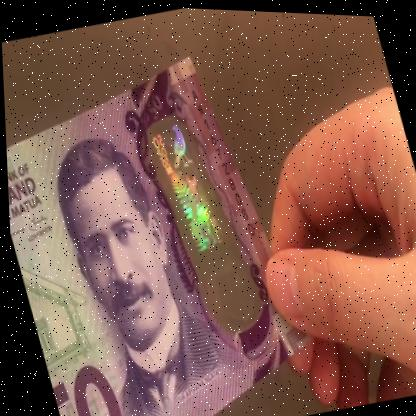50F: (146, 110, 251, 330)
